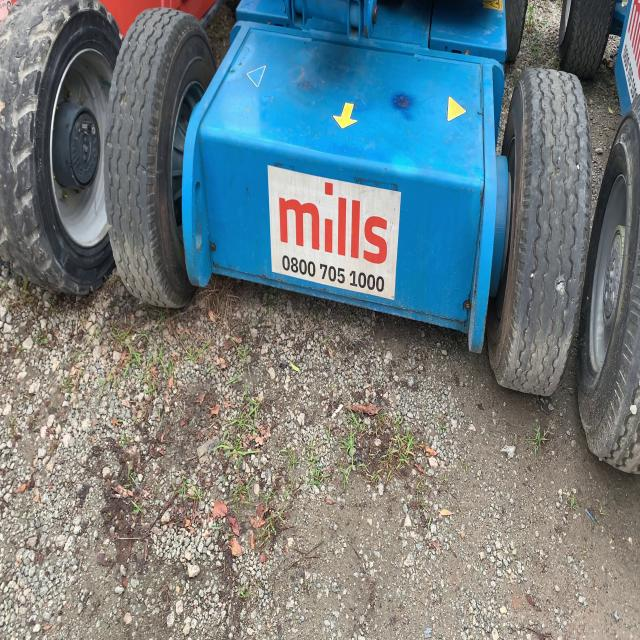Adesivos: (267, 160, 403, 304)
